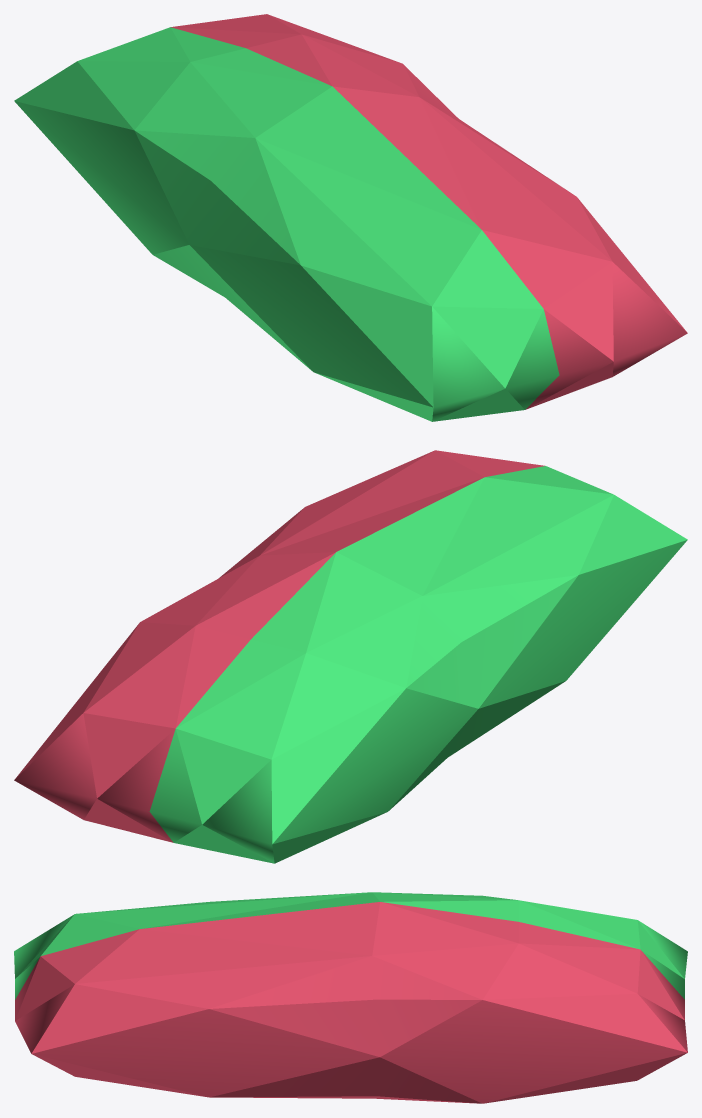
Rendered from Snack7.fbx.
3 views of the same model, one above another, from view 1: azimuth 30°, elevation 25°; view 2: azimuth 150°, elevation 25°; view 3: azimuth 270°, elevation 25° (orthographic). The views are drawn at different scales.
Parts seen in each view (by area): view 1: Snack7; view 2: Snack7; view 3: Snack7.
Part boxes in pixels (x1,y1,x2,y2): Snack7: (14,14,687,421); Snack7: (14,450,687,863); Snack7: (14,892,687,1103).
Size of the model in its own units: 11.46 by 8.81 by 28.75.
